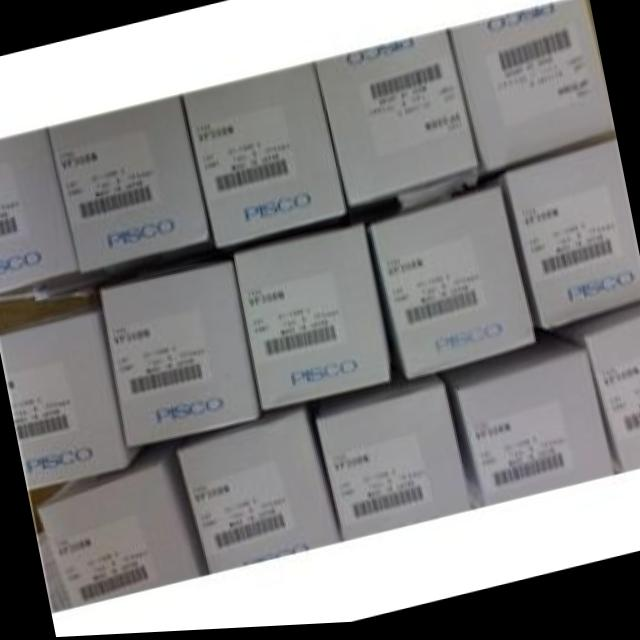box: (46, 98, 223, 294), (366, 191, 537, 382), (180, 65, 348, 251), (448, 2, 614, 186), (313, 34, 482, 213), (233, 226, 389, 416), (440, 339, 616, 507), (97, 264, 259, 446), (500, 141, 640, 342), (177, 407, 341, 576), (40, 442, 206, 607), (0, 301, 145, 489), (318, 381, 473, 542), (0, 129, 86, 301), (555, 309, 640, 477), (37, 528, 75, 611)
